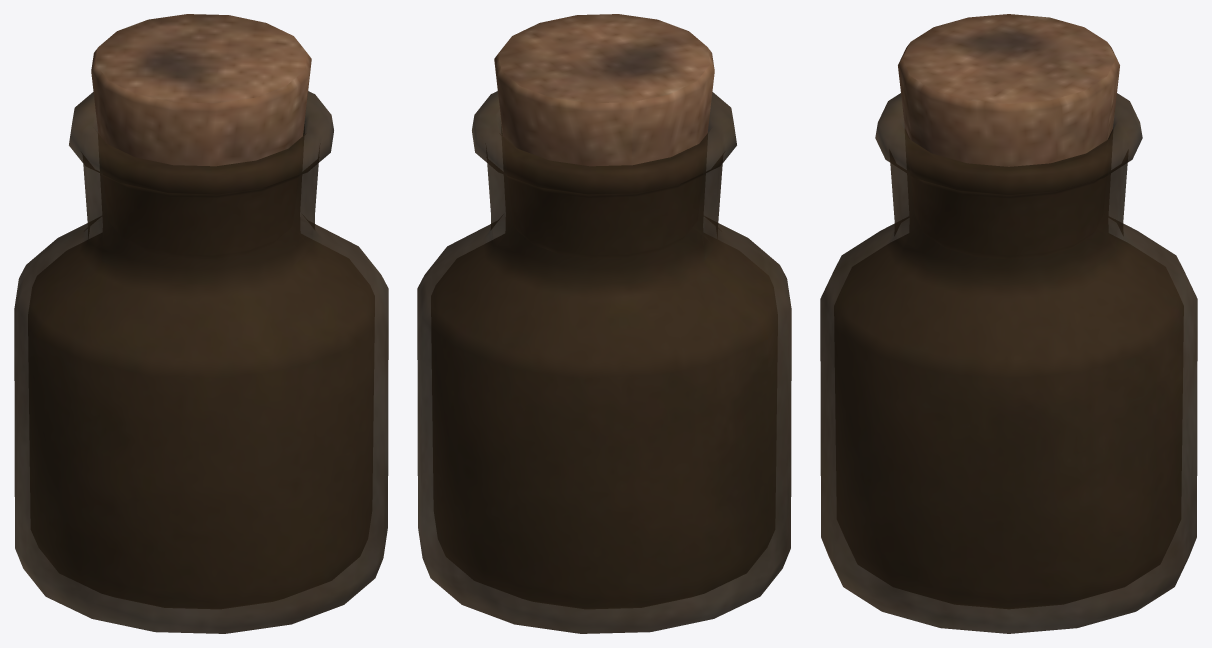
Rendered from bottle_dark_b.glb.
The picture shows the model from 3 angles, left to right: view 1: azimuth 30°, elevation 25°; view 2: azimuth 150°, elevation 25°; view 3: azimuth 270°, elevation 25°; orthographic projection.
Visible parts, largest first — view 1: chemistry_set_bottle_dark_b.001, chemistry_set_bottle_dark_b_cork.001; view 2: chemistry_set_bottle_dark_b.001, chemistry_set_bottle_dark_b_cork.001; view 3: chemistry_set_bottle_dark_b.001, chemistry_set_bottle_dark_b_cork.001.
Part boxes in pixels (x1,y1,x2,y2): chemistry_set_bottle_dark_b.001: (14, 91, 388, 633); chemistry_set_bottle_dark_b_cork.001: (91, 14, 311, 166); chemistry_set_bottle_dark_b.001: (417, 91, 791, 633); chemistry_set_bottle_dark_b_cork.001: (494, 14, 714, 166); chemistry_set_bottle_dark_b.001: (820, 93, 1197, 633); chemistry_set_bottle_dark_b_cork.001: (898, 14, 1119, 166).
Bounding box in the file's own units: 0.0492 × 0.0737 × 0.0492.
2 materials, 2 textured.
